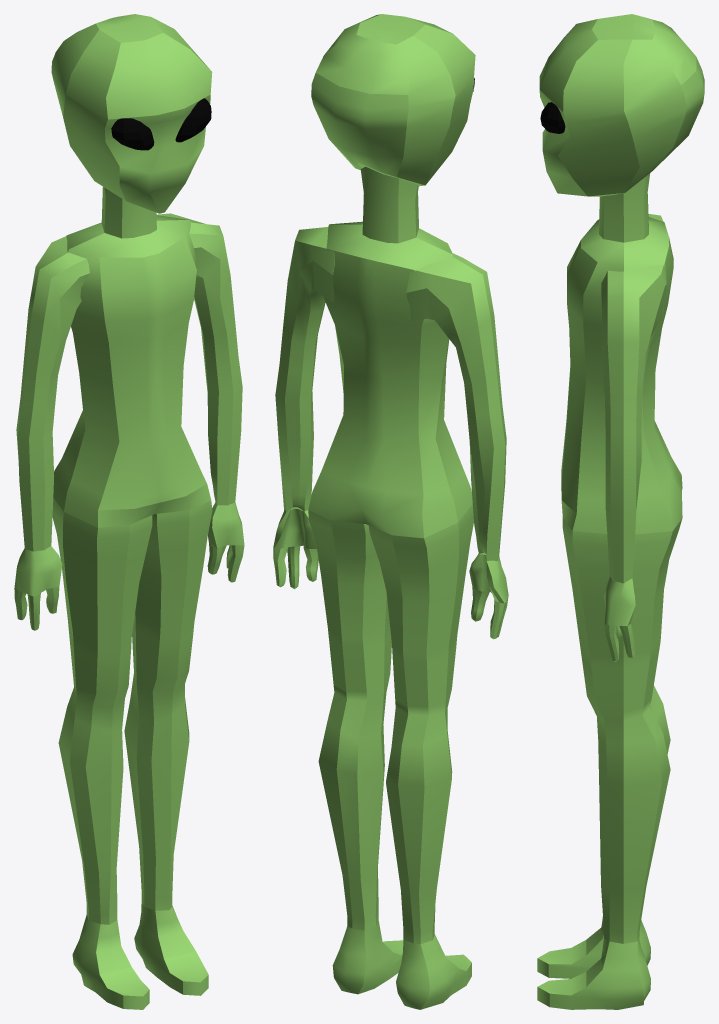
The model's file is alien.glb.
3 renders of one model, left to right at view 1: azimuth 30°, elevation 25°; view 2: azimuth 150°, elevation 25°; view 3: azimuth 270°, elevation 25°, orthographic. The views are drawn at different scales.
Visible parts, largest first — view 1: pSphere6; view 2: pSphere6; view 3: pSphere6.
Boxes of the visible parts, x1=… form: pSphere6: x1=14, y1=14, x2=244, y2=1009; pSphere6: x1=273, y1=14, x2=508, y2=1009; pSphere6: x1=537, y1=14, x2=704, y2=1009.
Size of the model in its own units: 0.2436 by 0.9729 by 0.1535.
Materials: 1 (1 with a texture image).
